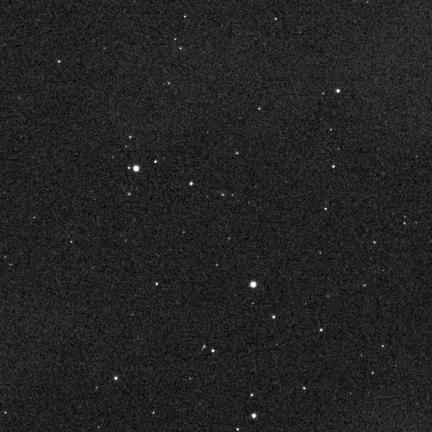blob: (133, 166, 139, 172), (250, 281, 256, 287), (189, 182, 193, 186)
